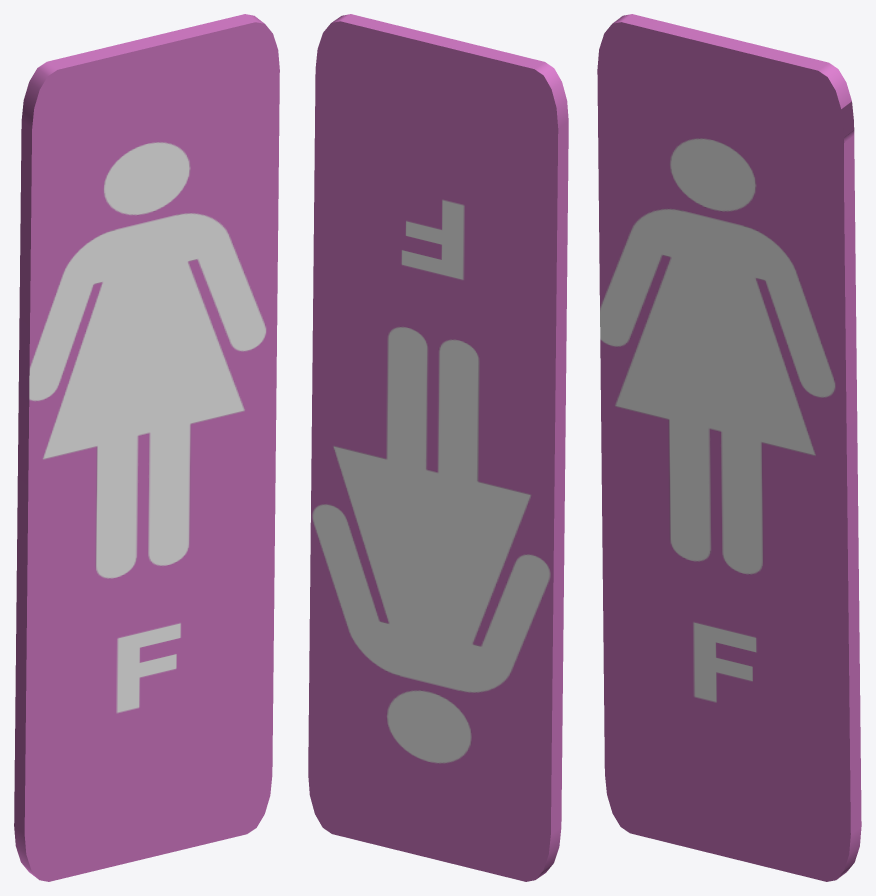
File: female-washroom.fbx
The picture shows the model from 3 angles, left to right: view 1: azimuth 30°, elevation 25°; view 2: azimuth 150°, elevation 25°; view 3: azimuth 330°, elevation 25°; orthographic projection.
Visible parts, largest first — view 1: anothersignage:pasted__pCube1; view 2: anothersignage:pasted__pCube1; view 3: anothersignage:pasted__pCube1.
Boxes of the visible parts, x1=… form: anothersignage:pasted__pCube1: x1=14, y1=14, x2=279, y2=881; anothersignage:pasted__pCube1: x1=308, y1=14, x2=568, y2=881; anothersignage:pasted__pCube1: x1=597, y1=14, x2=861, y2=881.
Size of the model in its own units: 13.43 by 42.53 by 1.87.
